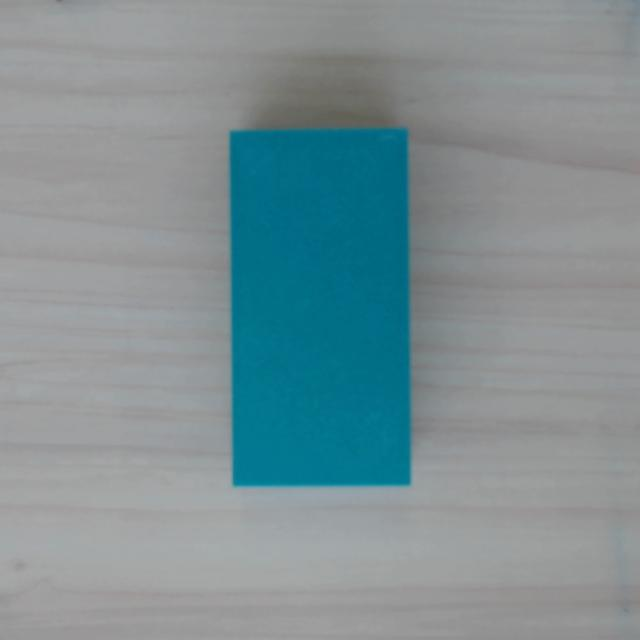Balok-Hijau-1005025: (230, 128, 411, 487)
